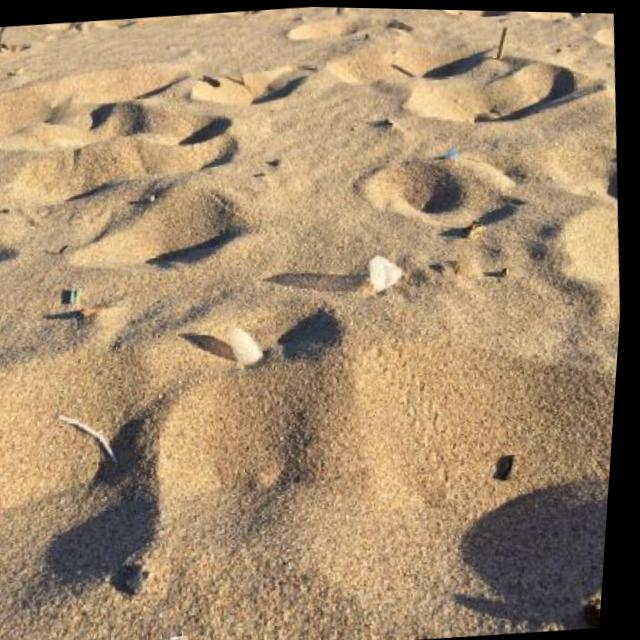plastic: (54, 409, 121, 469), (220, 323, 266, 369), (366, 252, 405, 293)
